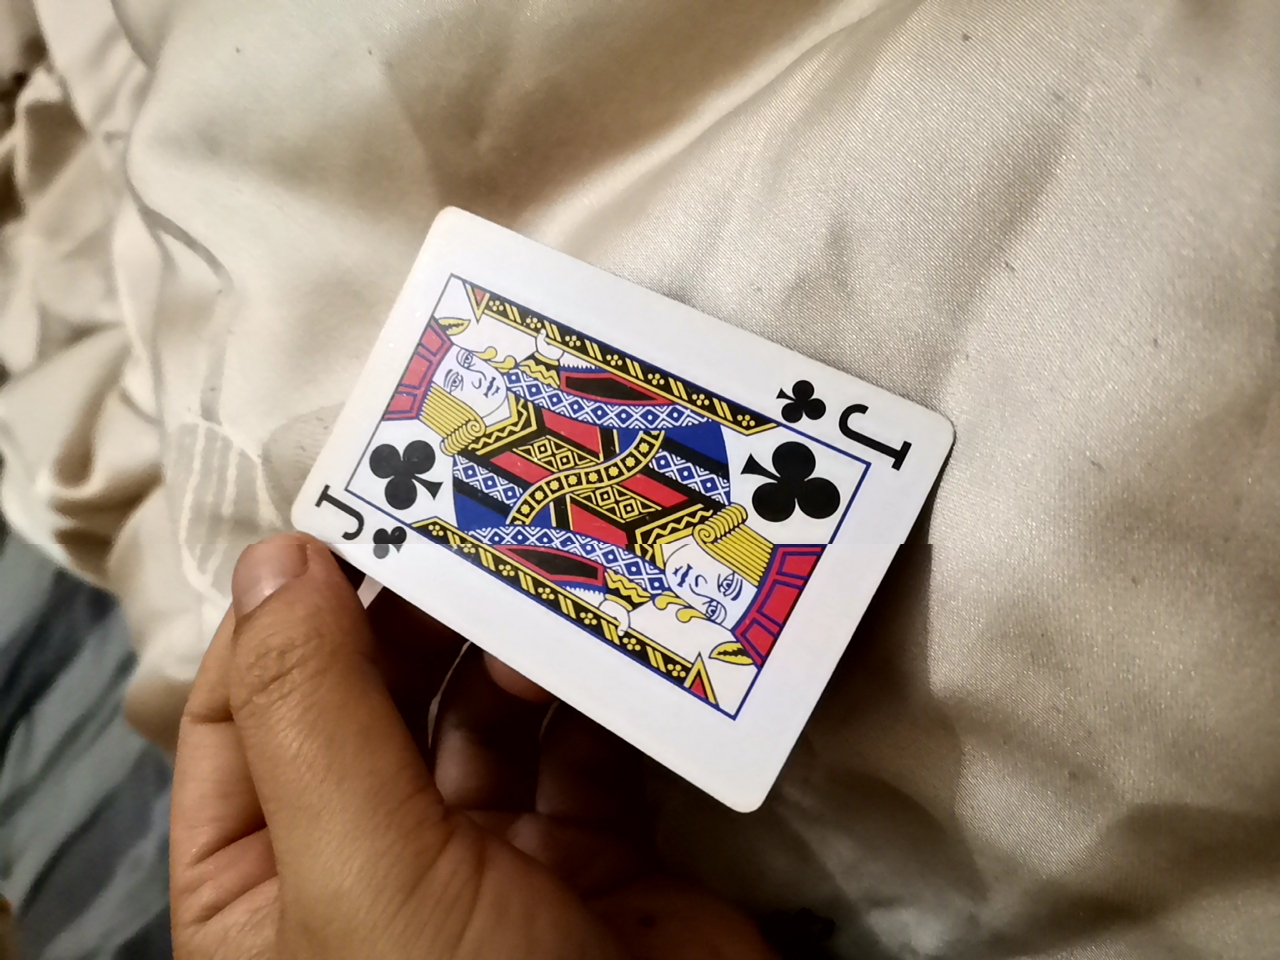mh j: (290, 190, 954, 816)
